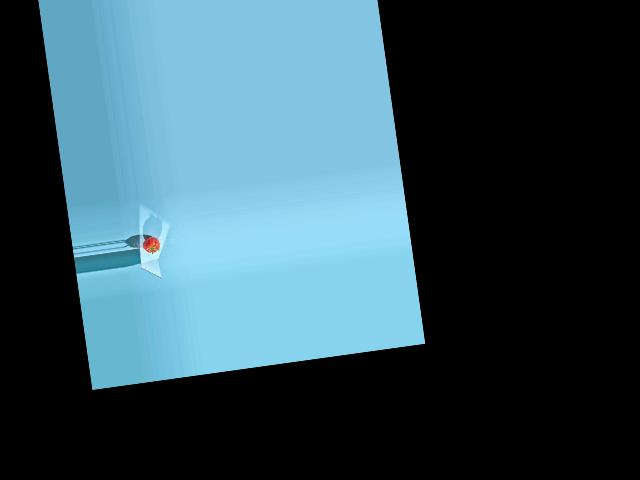tomato: (141, 235, 160, 254)
